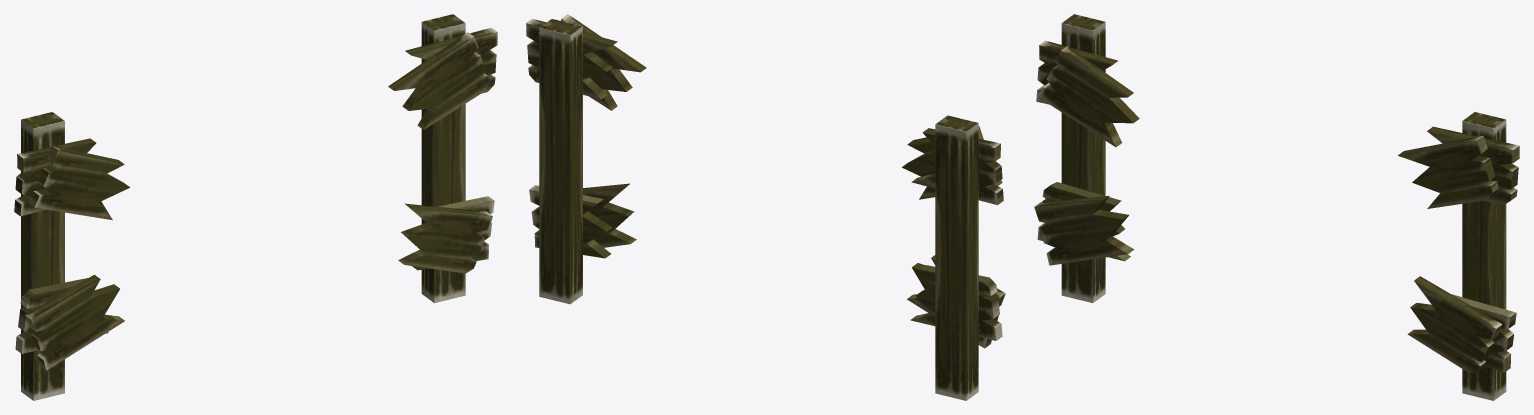
The model's file is WoodPlanksBreak.fbx.
The picture shows the model from 3 angles, left to right: view 1: azimuth 30°, elevation 25°; view 2: azimuth 150°, elevation 25°; view 3: azimuth 330°, elevation 25°; orthographic projection.
Visible parts, largest first — view 1: n0b0; view 2: n0b0; view 3: n0b0.
Part boxes in pixels (x1,y1,x2,y2): n0b0: (14, 14, 497, 400); n0b0: (526, 14, 1005, 400); n0b0: (1034, 14, 1519, 400).
Size of the model in its own units: 1119 by 610 by 102.
1 material, 1 textured.
